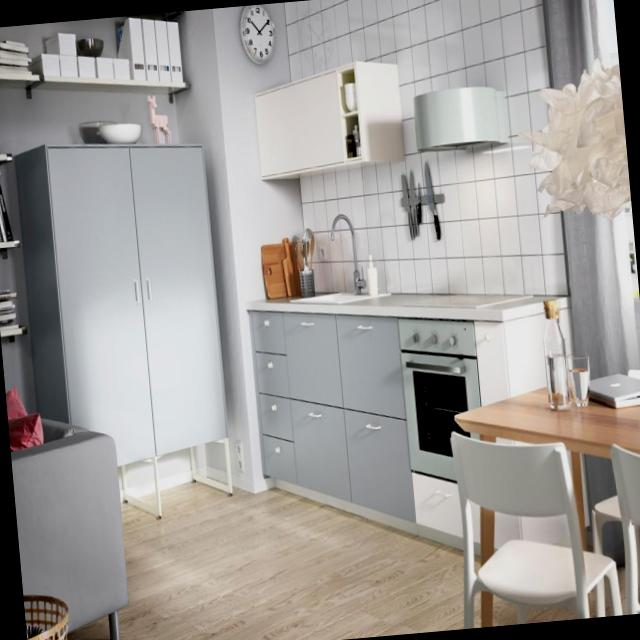footpath: (138, 497, 454, 640)
obstacle: (16, 110, 242, 517), (436, 304, 640, 628), (6, 400, 137, 640)
